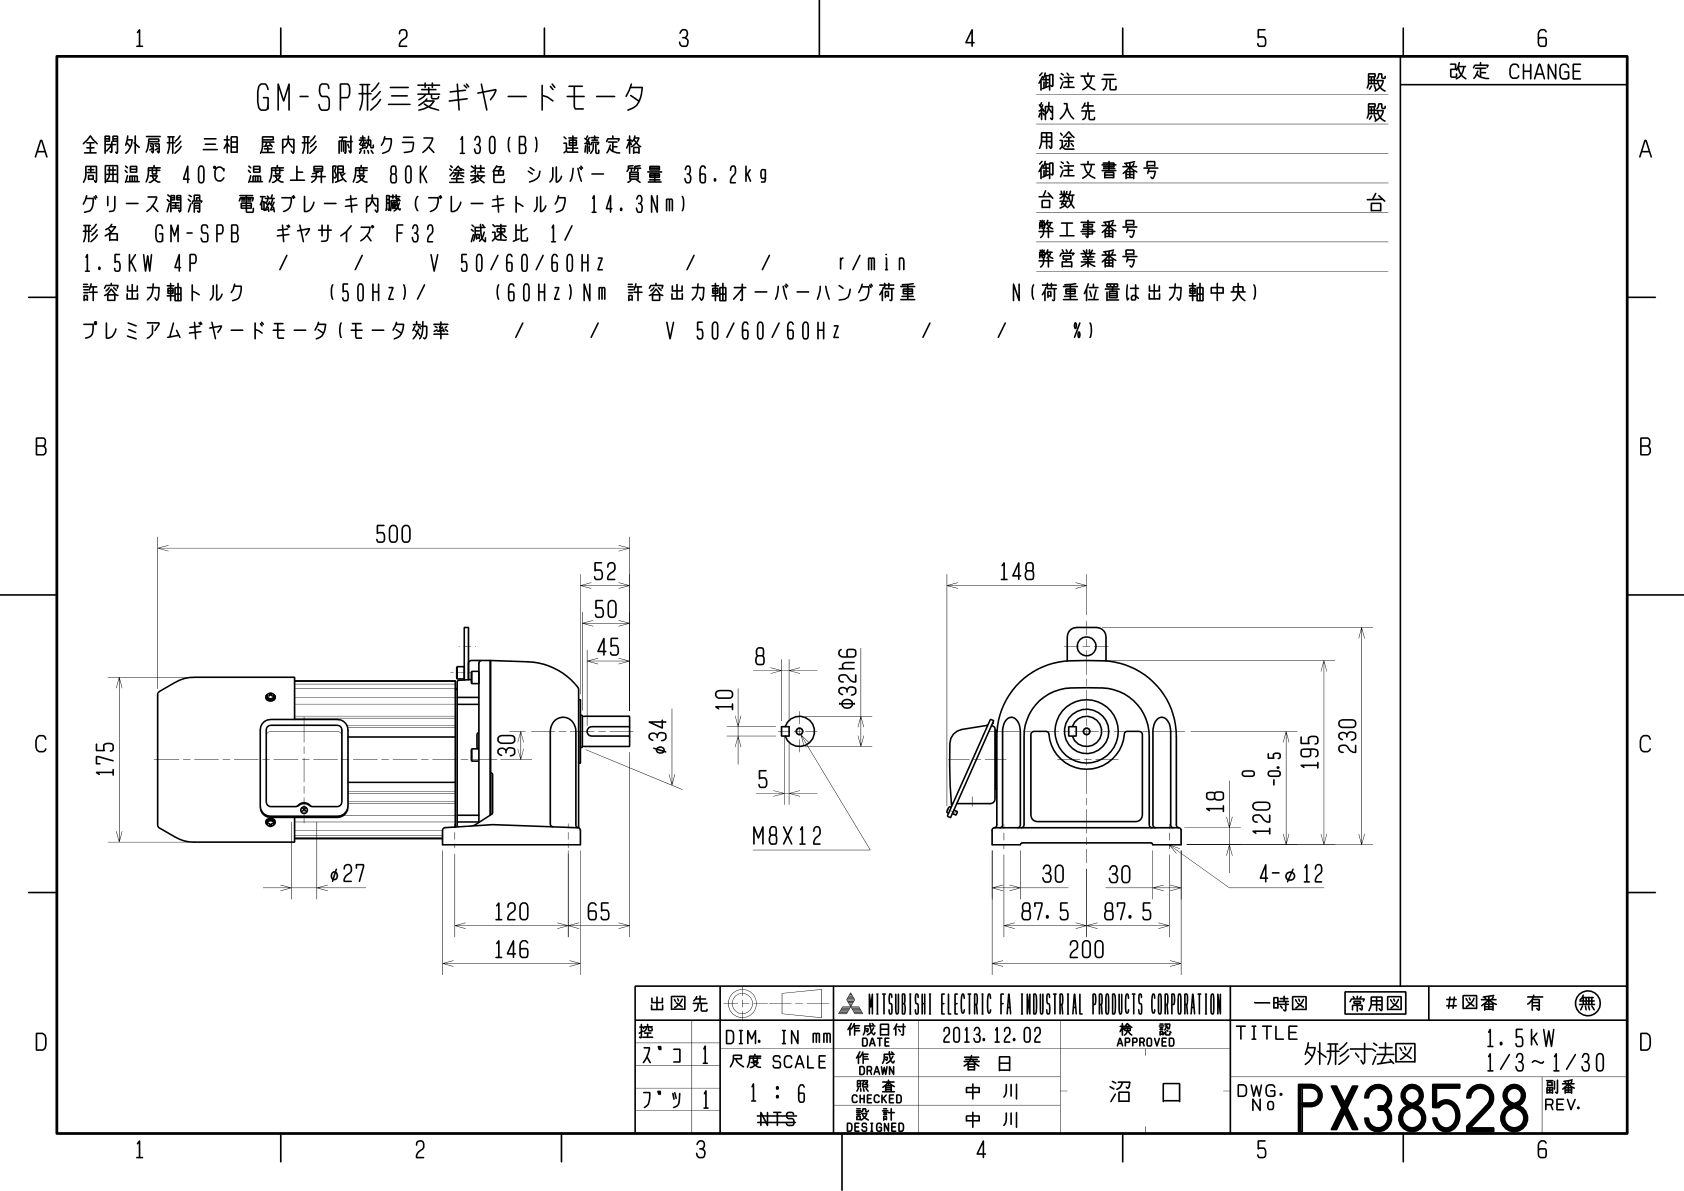GM_SP_屋内_三相_脚: (71, 478, 1389, 990)
